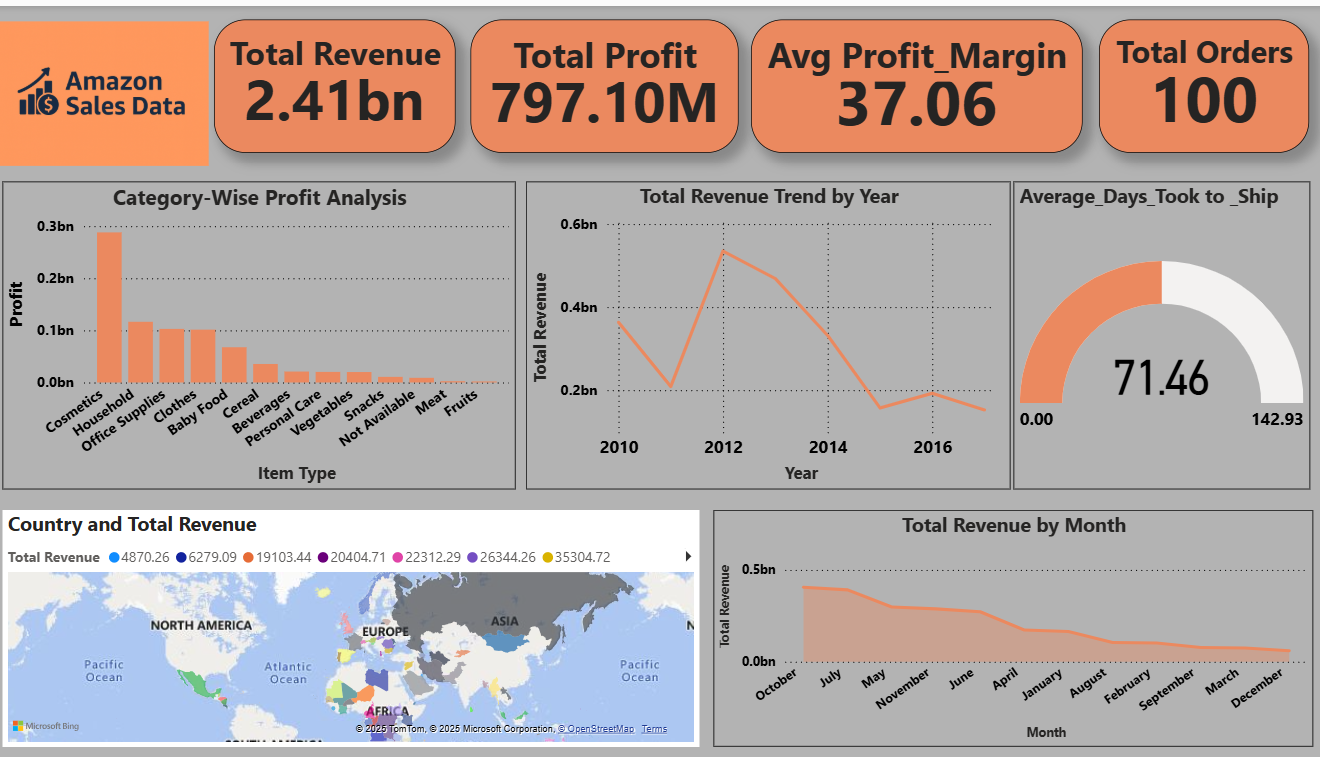

The page's visual inventory and layout, read from the dashboard file:
{"tool":"powerbi","page":{"name":"Page 1","canvas":[1280,720],"ordinal":0},"visuals":[{"type":"card","title":"Total Revenue","fields":{"Values":["Sum(Amazon_final_data.Total Revenue)"]},"box":[217.9,12.7,230.6,127.2],"z":0},{"type":"card","title":"Total Profit","fields":{"Values":["Sum(Amazon_final_data.profit)"]},"box":[462.9,12.7,256.1,127.2],"z":1000},{"type":"card","title":"Avg Profit_Margin","fields":{"Values":["Avg(Amazon_final_data.Profit_Margin)"]},"box":[730.1,12.7,316.5,127.2],"z":2000},{"type":"card","title":"Total Orders","fields":{"Values":["Count(Amazon_final_data.Order ID)"]},"box":[1062.5,12.7,200.4,127.2],"z":3000},{"type":"lineChart","title":"Total Revenue Trend by Year","fields":{"Category":["Amazon_final_data.Year"],"Y":["Sum(Amazon_final_data.Total Revenue)"]},"box":[515.4,167,462.9,294.3],"z":4000},{"type":"areaChart","title":"Total Revenue by Month","fields":{"Y":["Sum(Amazon_final_data.Total Revenue)"],"Category":["Amazon_final_data.Month"]},"box":[695.1,482,572.6,225.9],"z":5000},{"type":"columnChart","title":"Category-Wise Profit Analysis","fields":{"Category":["Amazon_final_data.Item Type"],"Y":["Sum(Amazon_final_data.profit)"]},"box":[15.9,167,489.9,294.3],"z":6000},{"type":"gauge","title":"Average_Days_Took to _Ship","fields":{"Y":["Avg(Amazon_final_data.Days_Took to _Ship)"]},"box":[981.4,167,283.1,294.3],"z":7000},{"type":"filledMap","fields":{"Category":["Amazon_final_data.Country"],"Series":["Amazon_final_data.Total Revenue"]},"box":[15.9,482,664.9,225.9],"z":8000},{"type":"image","box":[0,0,217.9,167],"z":9000}]}

Visuals, with their boxes in screenshot pixels (x1, y1, x2, y2), scaled from the page's 1280x720 canvas onto the 1320x757 screenshot:
"Total Revenue" card: (225, 13, 463, 147)
"Total Profit" card: (477, 13, 741, 147)
"Avg Profit_Margin" card: (753, 13, 1079, 147)
"Total Orders" card: (1096, 13, 1302, 147)
"Total Revenue Trend by Year" lineChart: (532, 176, 1009, 485)
"Total Revenue by Month" areaChart: (717, 507, 1307, 744)
"Category-Wise Profit Analysis" columnChart: (16, 176, 522, 485)
"Average_Days_Took to _Ship" gauge: (1012, 176, 1304, 485)
filledMap - Amazon_final_data.Country x Amazon_final_data.Total Revenue: (16, 507, 702, 744)
image: (0, 0, 225, 176)
